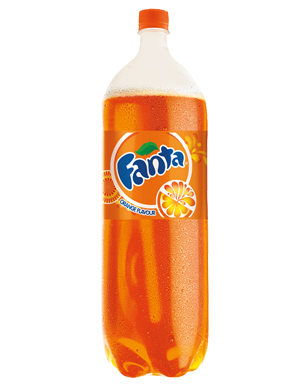Fanta: (90, 16, 247, 381)
